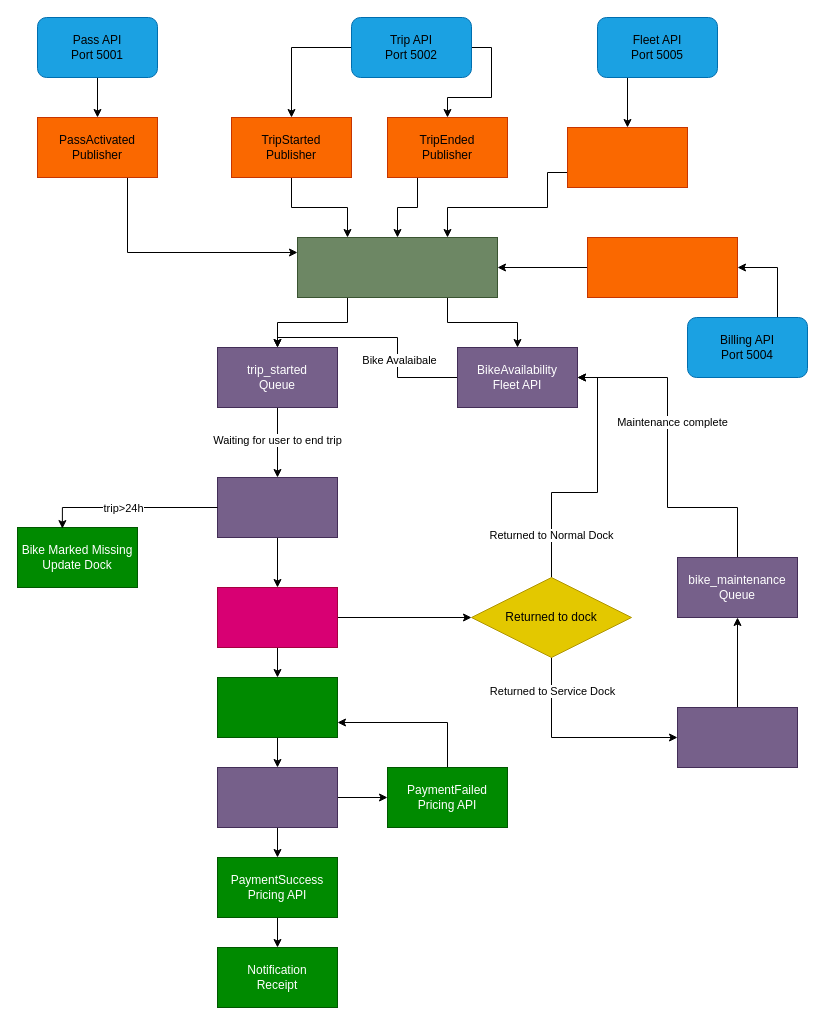
Image size: 825x1025. Some labels were removed from this diagram. Each missing label, with the box of its shape:
BikeAvailability Publisher: (566, 126, 688, 188)
BikeMaintenance Fleet API: (676, 706, 798, 768)
Message Broker Exchange: bikeShare_events: (296, 236, 498, 298)
outstanding_bill Queue: (216, 766, 338, 828)
PaymentSuccess/Failure Publisher: (586, 236, 738, 298)
trip_waiting Queue: (216, 476, 338, 538)
TripEndConsumer Trip API: (216, 586, 338, 648)
TripFareCalculated Pricing API: (216, 676, 338, 738)
